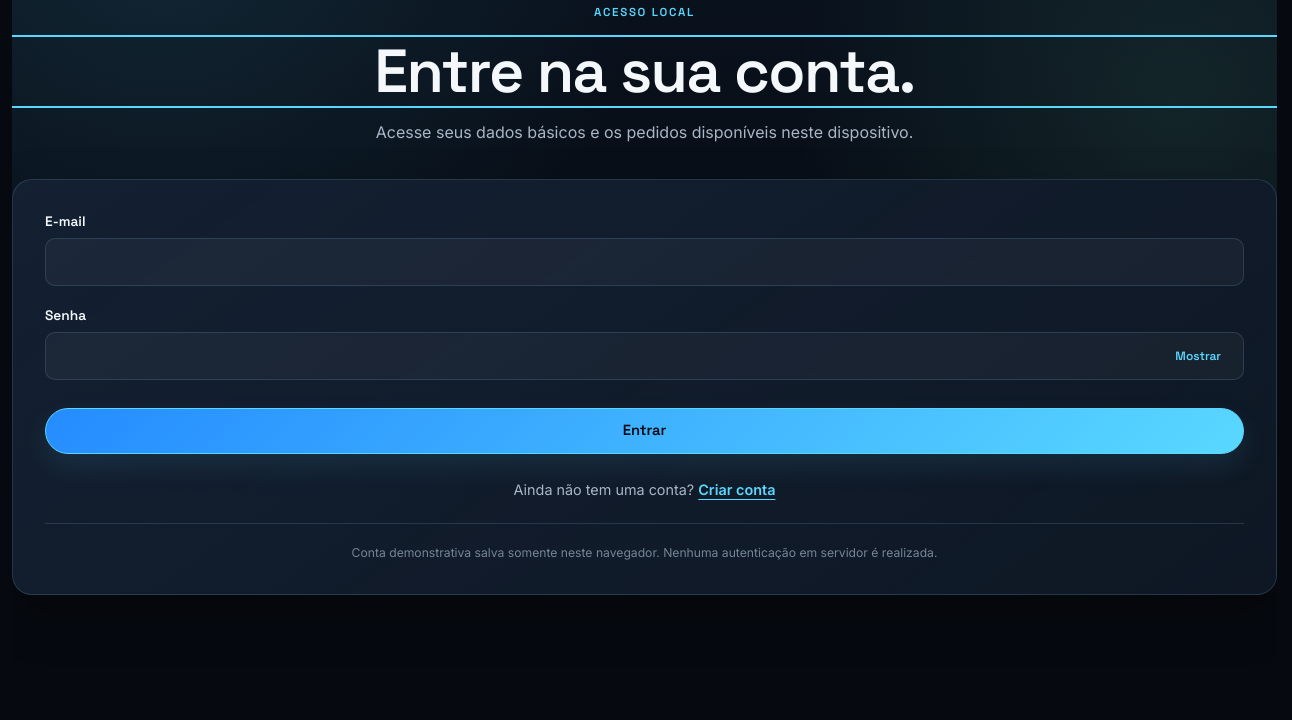
it: cadastro, login e área do cliente › protege a área, preserva o destino e aceita login válido
In the field labelled "E-mail": (644, 262) left=45, top=238, right=1244, bottom=286, type "felipe@exemplo.com"
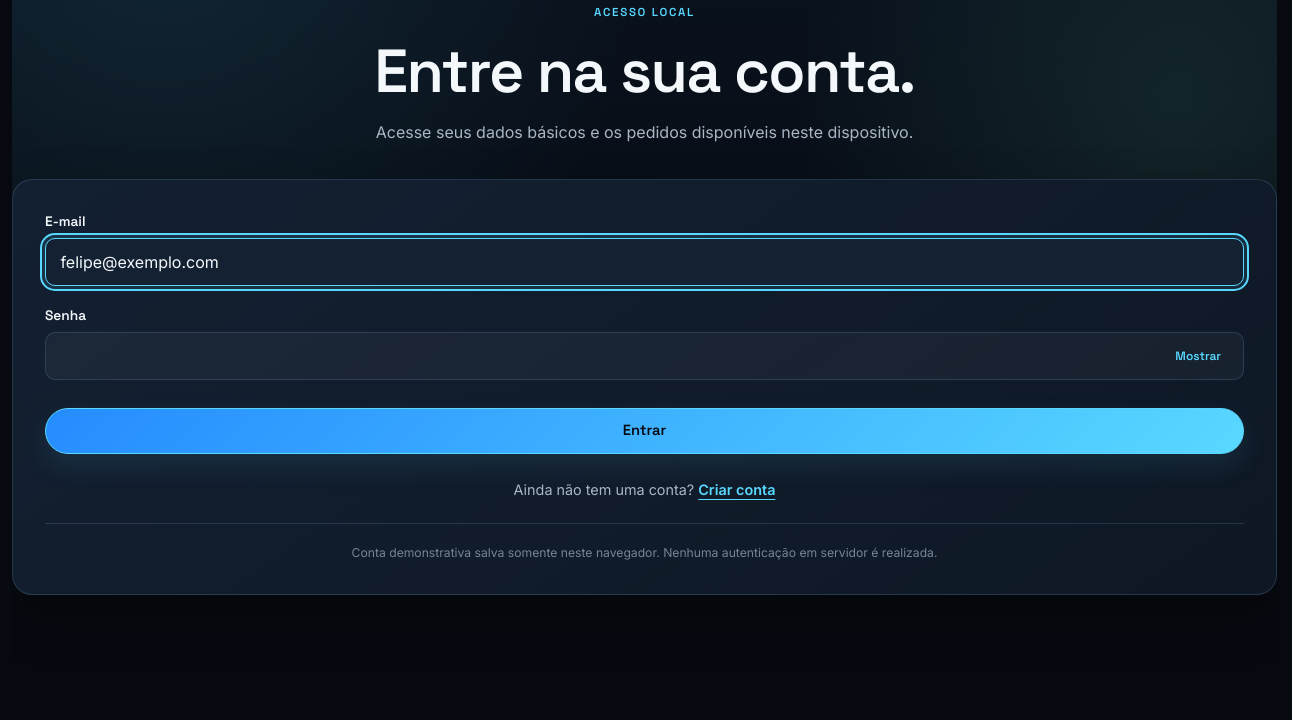
In the password field labelled "Senha": (644, 356) left=45, top=332, right=1244, bottom=380, type "eden2026"
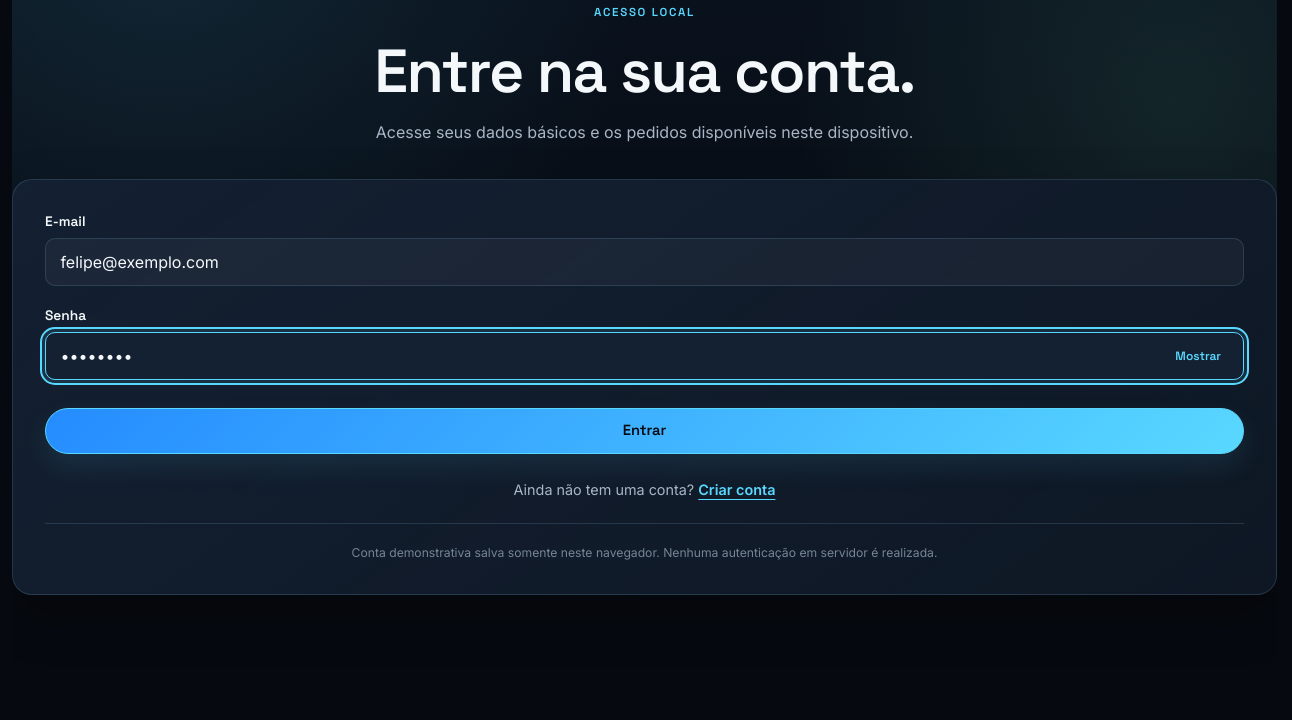
Click the button "Entrar": (644, 431) left=45, top=408, right=1244, bottom=454
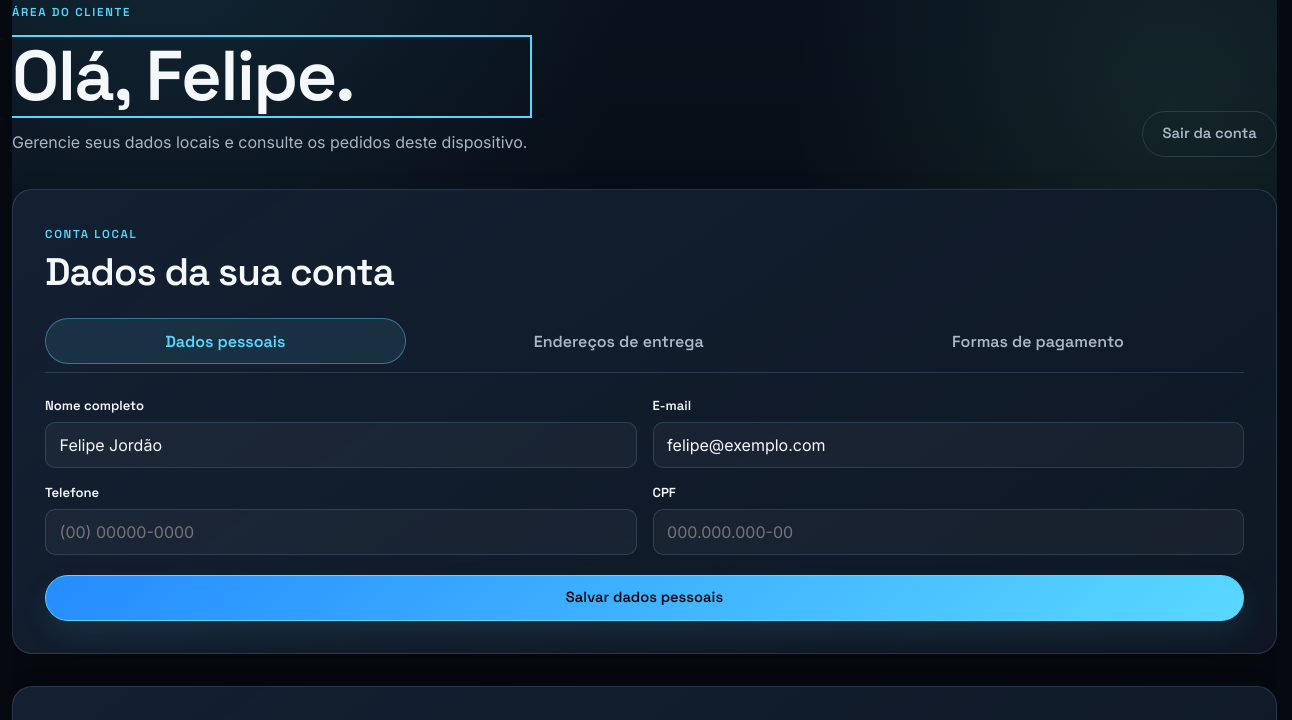
Expected: the heading "Olá, Felipe." is shown, left=12, top=31, right=354, bottom=121
